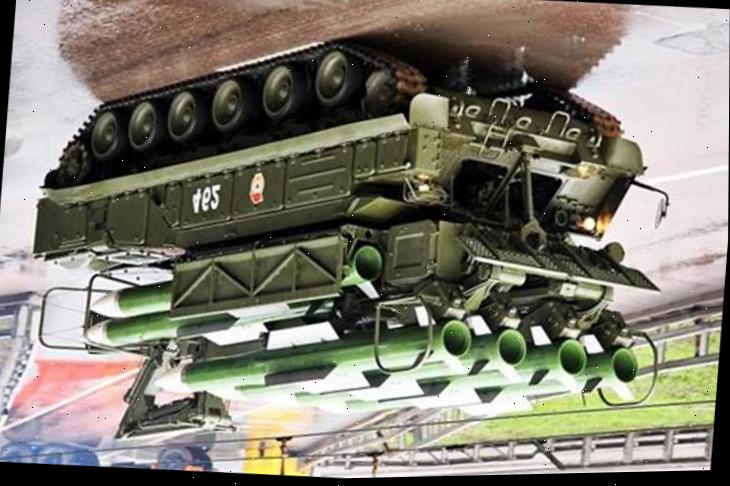armored_car: (38, 13, 686, 482)
